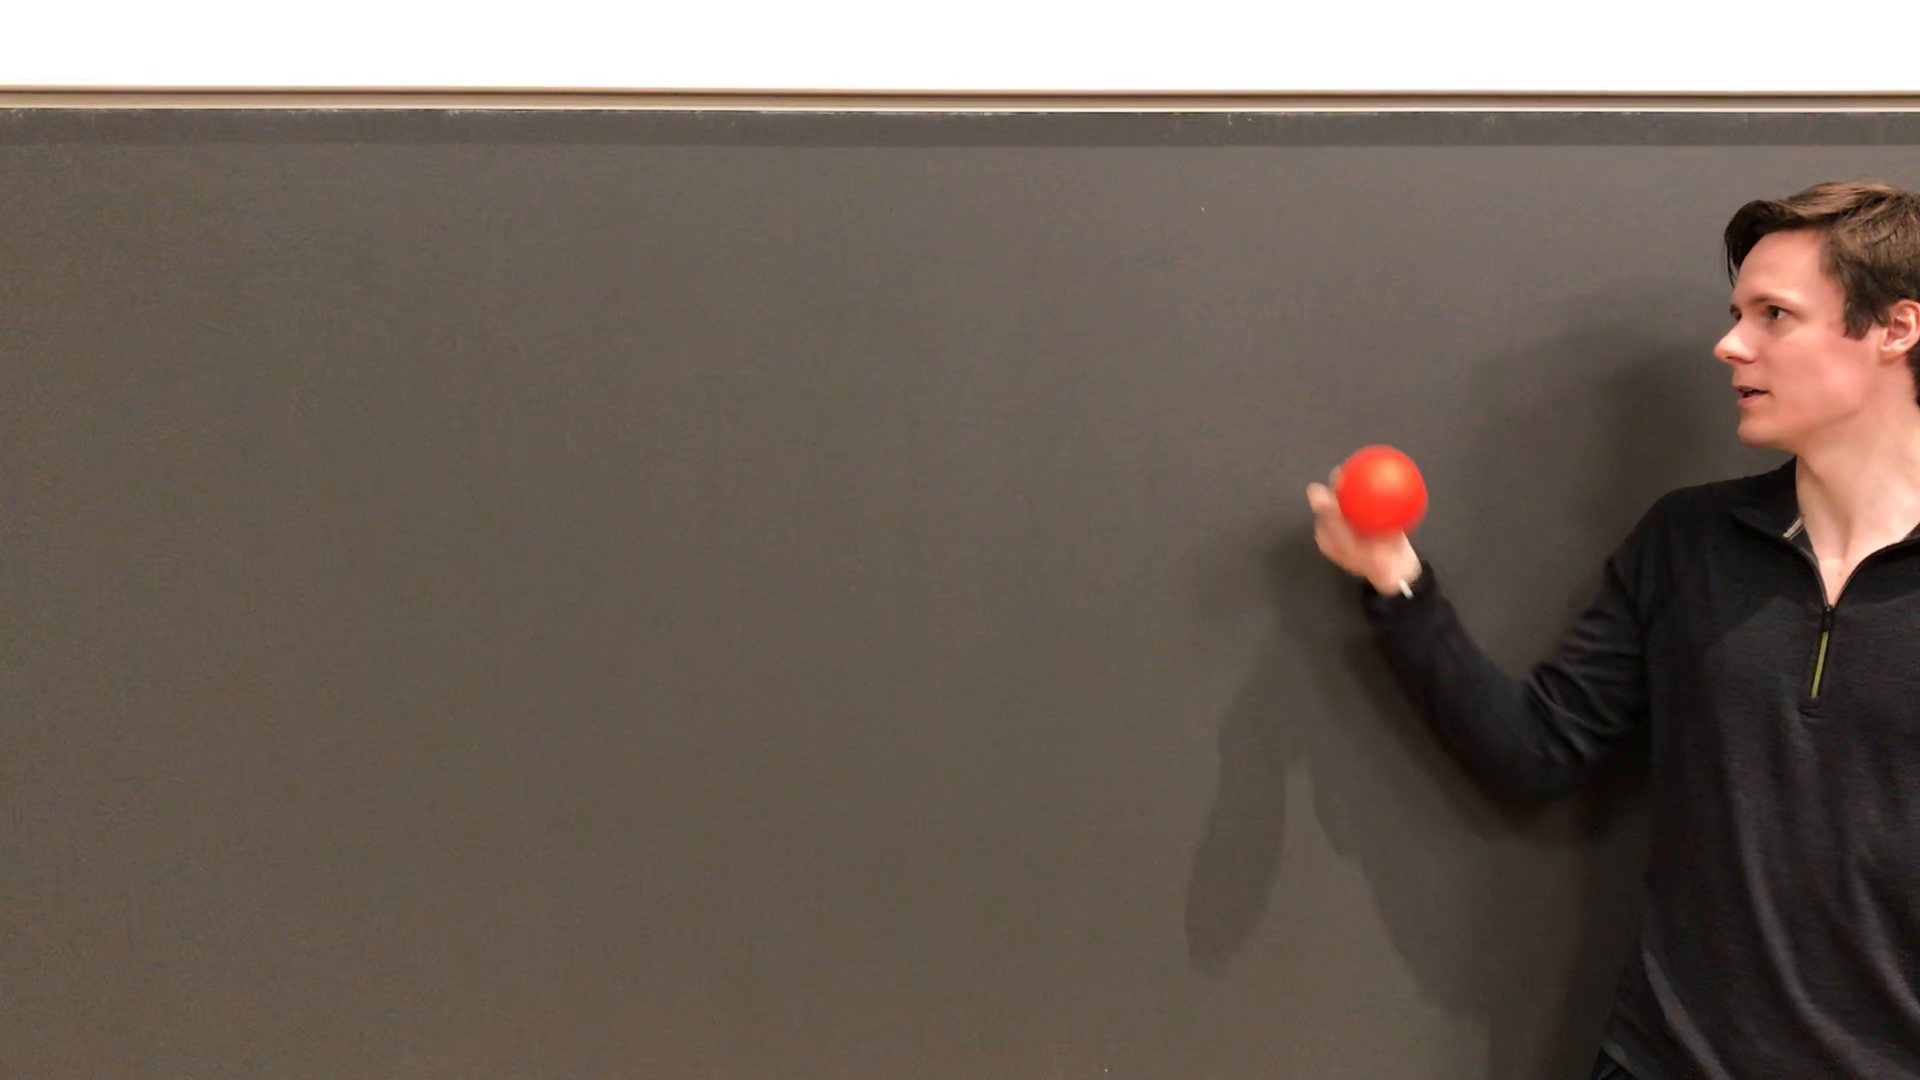Ball: (1335, 446, 1443, 538)
